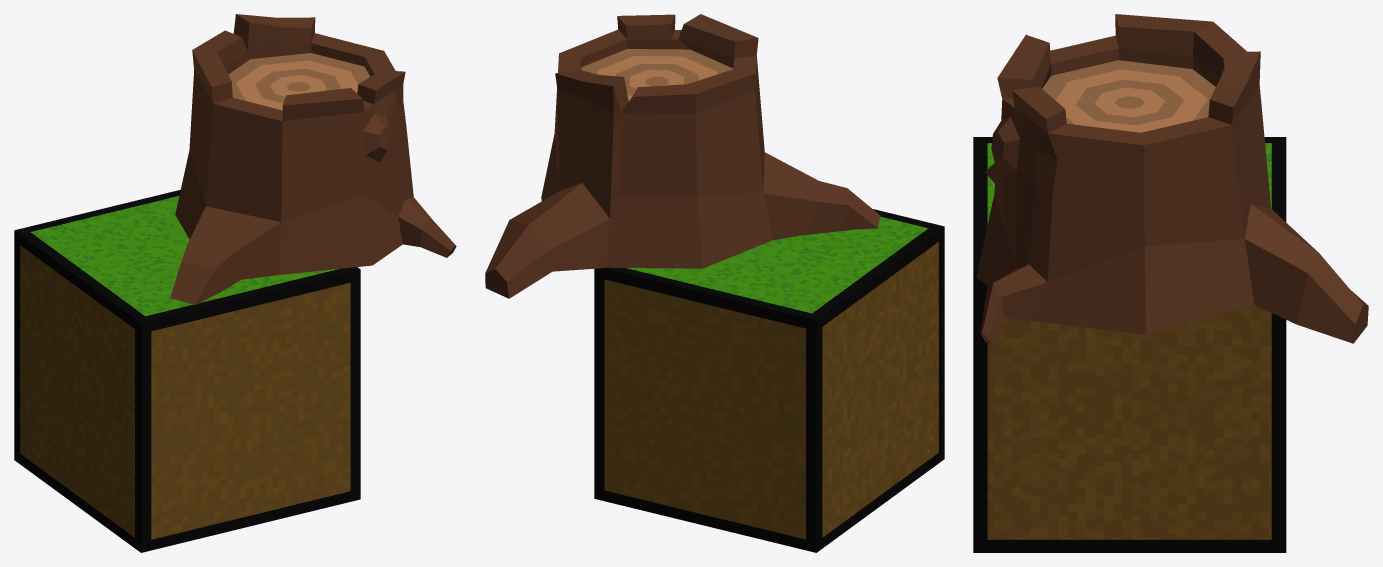
The model's file is TreeStump2.glb.
3 renders of one model, left to right at view 1: azimuth 30°, elevation 25°; view 2: azimuth 150°, elevation 25°; view 3: azimuth 270°, elevation 25°, orthographic. The views are drawn at different scales.
Visible parts, largest first — view 1: Grass_v2Baked, Circle.003; view 2: Grass_v2Baked, Circle.003; view 3: Circle.003, Grass_v2Baked.
Part boxes in pixels (box(x1,y1,x2,y2)): Grass_v2Baked: box(14, 190, 360, 552); Circle.003: box(170, 14, 456, 304); Grass_v2Baked: box(594, 209, 944, 552); Circle.003: box(485, 14, 880, 298); Circle.003: box(976, 14, 1368, 346); Grass_v2Baked: box(973, 137, 1286, 552).
Bounding box in the file's own units: 1.47 × 1.71 × 1.24.
4 materials, 1 textured.
